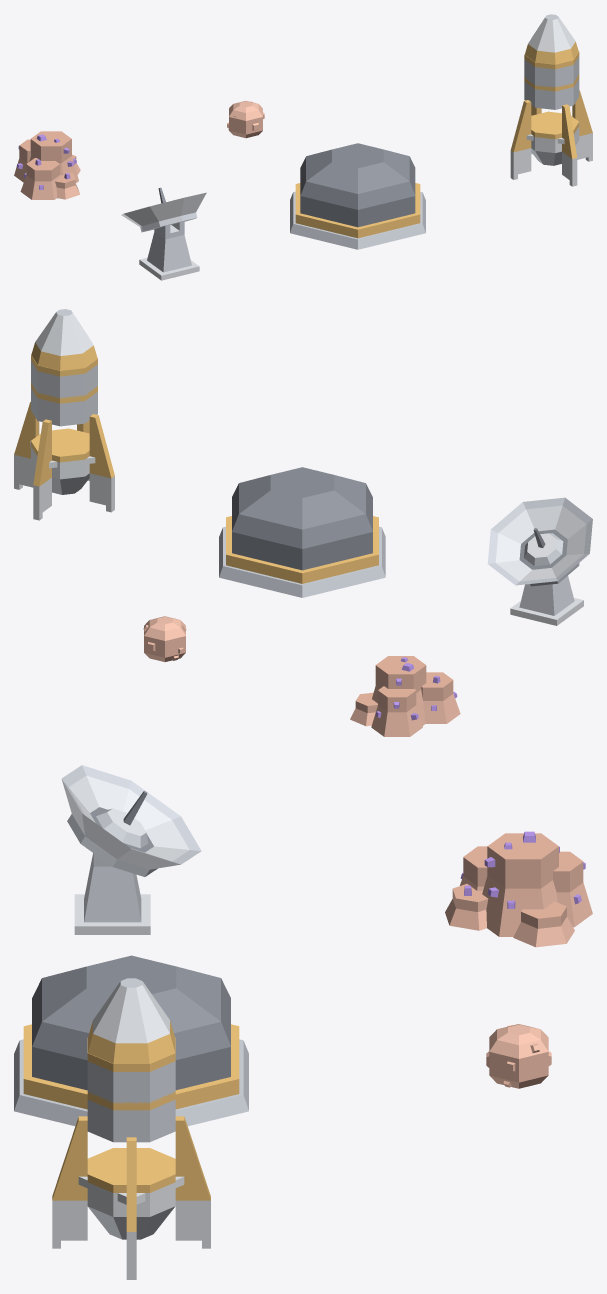
Rendered from decor_space.glb.
3 renders of one model, top to bottom at view 1: azimuth 30°, elevation 25°; view 2: azimuth 150°, elevation 25°; view 3: azimuth 270°, elevation 25°, orthographic. The views are drawn at different scales.
Visible parts, largest first — view 1: Kubbe, Kule, Anten, Kaya, Meteor; view 2: Kubbe, Kule, Anten, Kaya, Meteor; view 3: Kule, Kubbe, Anten, Kaya, Meteor.
Part boxes in pixels (left/top/right/bottom): Kubbe: left=290, top=143, right=425, bottom=249; Kule: left=510, top=14, right=592, bottom=186; Anten: left=121, top=187, right=206, bottom=280; Kaya: left=14, top=131, right=80, bottom=199; Meteor: left=227, top=101, right=264, bottom=138; Kubbe: left=219, top=467, right=385, bottom=597; Kule: left=14, top=309, right=114, bottom=520; Anten: left=487, top=497, right=592, bottom=625; Kaya: left=350, top=656, right=460, bottom=736; Meteor: left=143, top=616, right=186, bottom=661; Kule: left=52, top=978, right=210, bottom=1279; Kubbe: left=14, top=955, right=248, bottom=1126; Anten: left=61, top=765, right=201, bottom=934; Kaya: left=445, top=831, right=592, bottom=947; Meteor: left=486, top=1024, right=551, bottom=1088.
Size of the model in its own units: 48.27 by 15 by 29.89.
